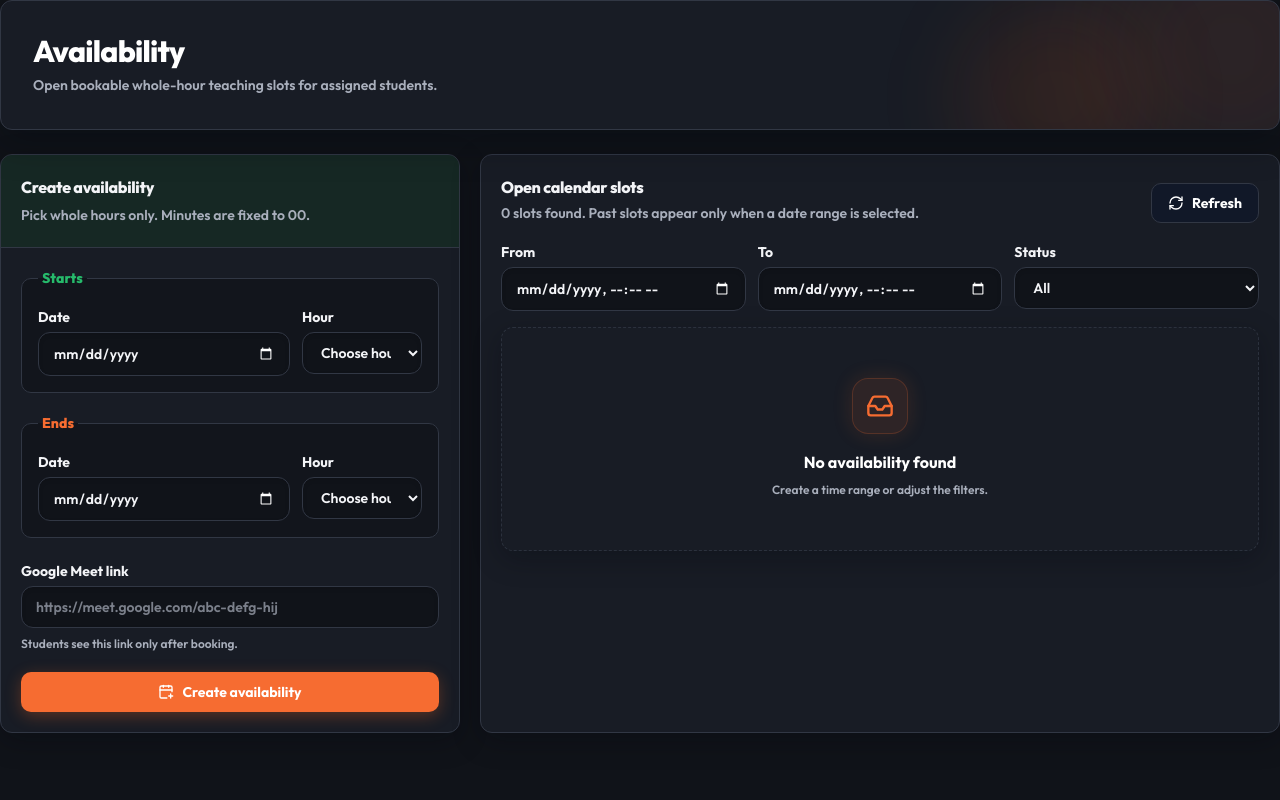
Teacher workspace › validates availability requires date and hour fields
Type "2026-07-23" into the date field with test id "teacher-availability-start-date" at point(164, 354), box x1=38 y1=332 x2=290 y2=376
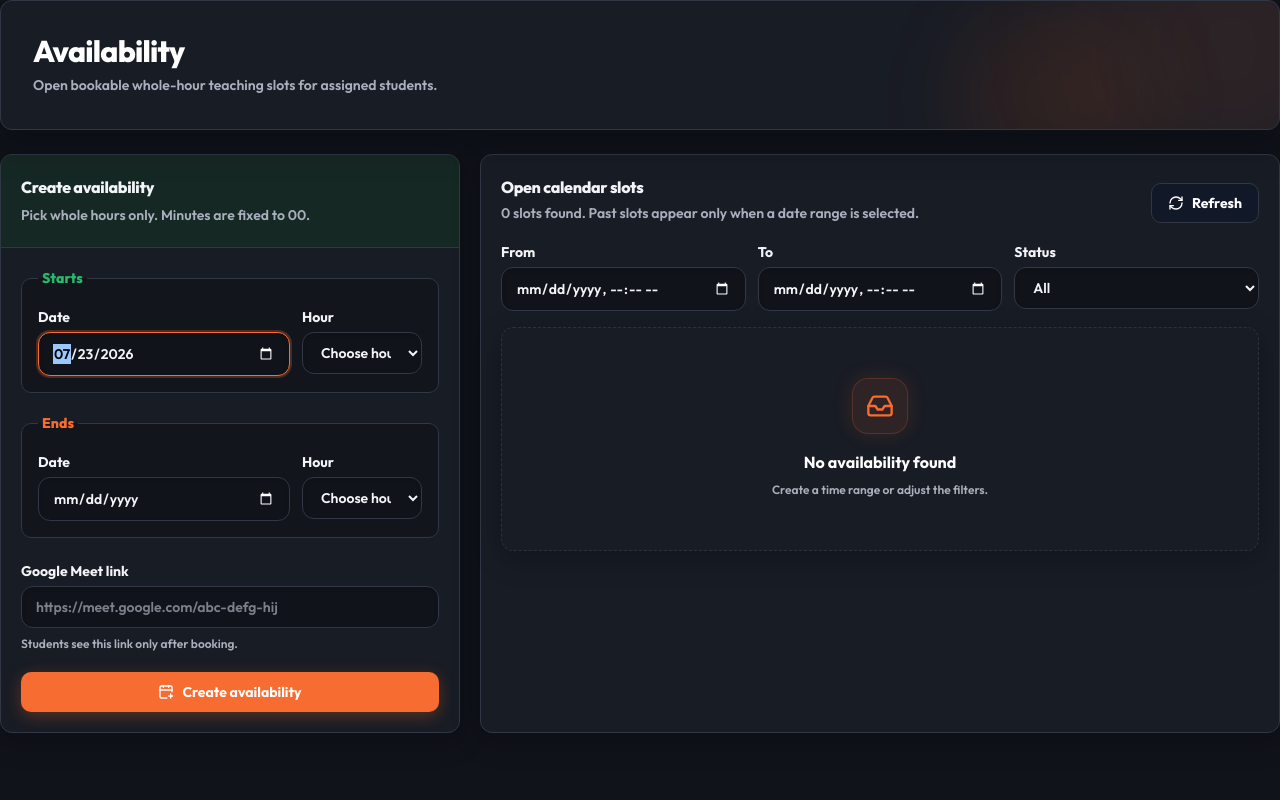
Select "10h" in the dropdown with test id "teacher-availability-start-hour" at point(362, 353), box x1=302 y1=332 x2=422 y2=374
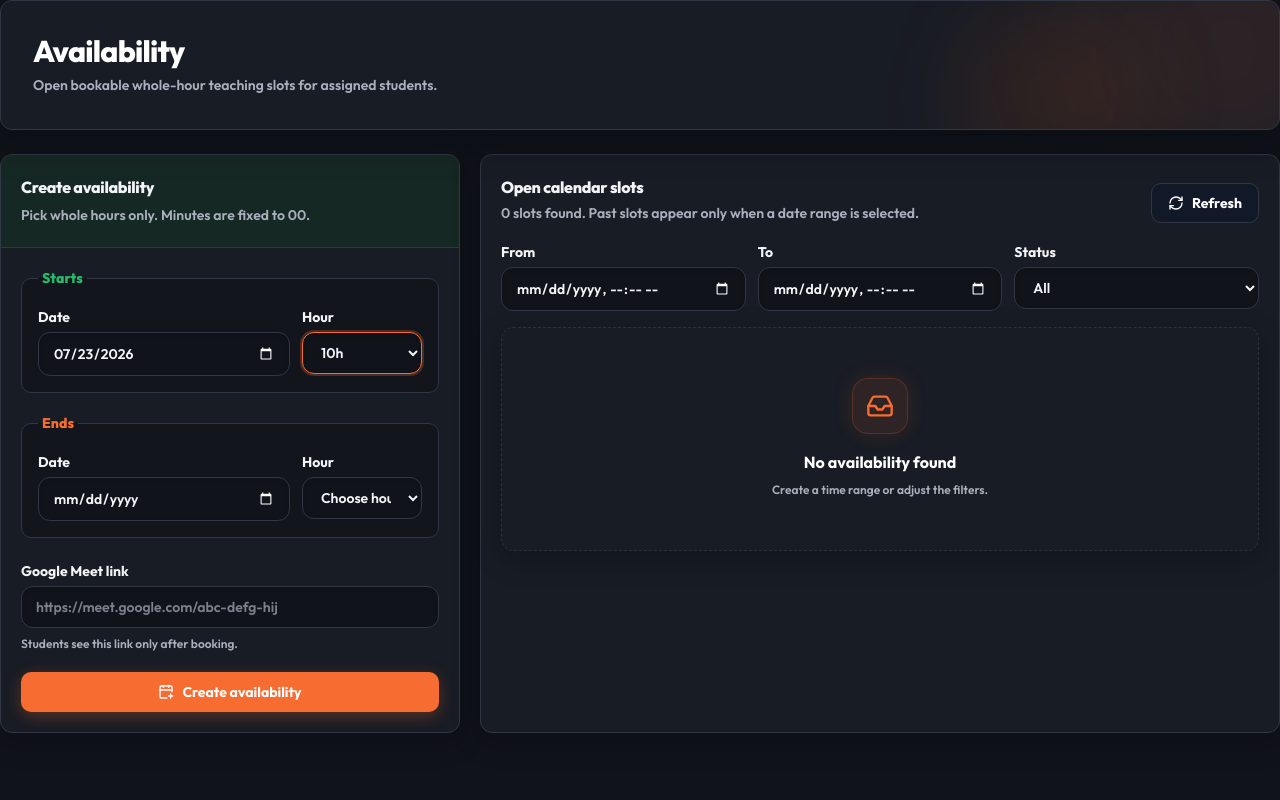
Click the button "Create availability" at point(230, 692), box x1=21 y1=672 x2=439 y2=712
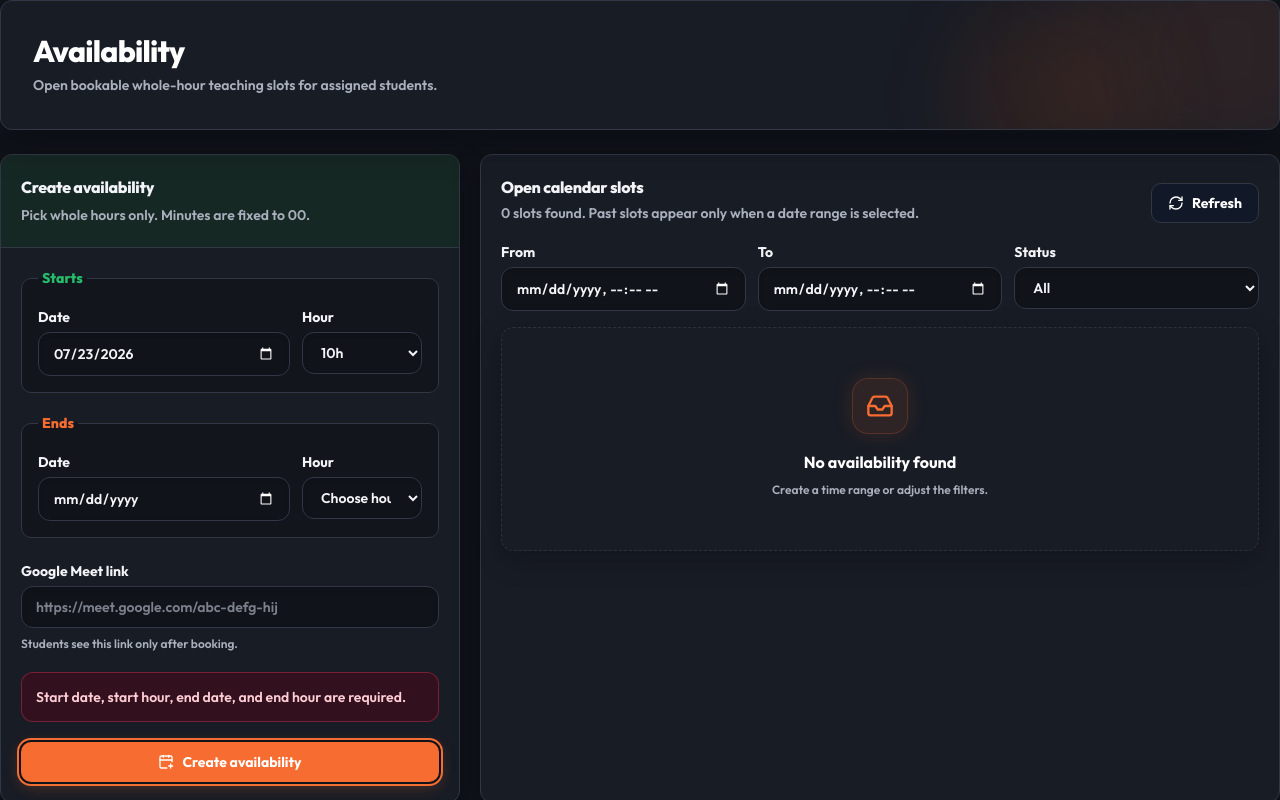
Expected: the text with test id "availability-error" shows "Start date, start hour, end date, and end hour are required", x1=36 y1=688 x2=406 y2=706
